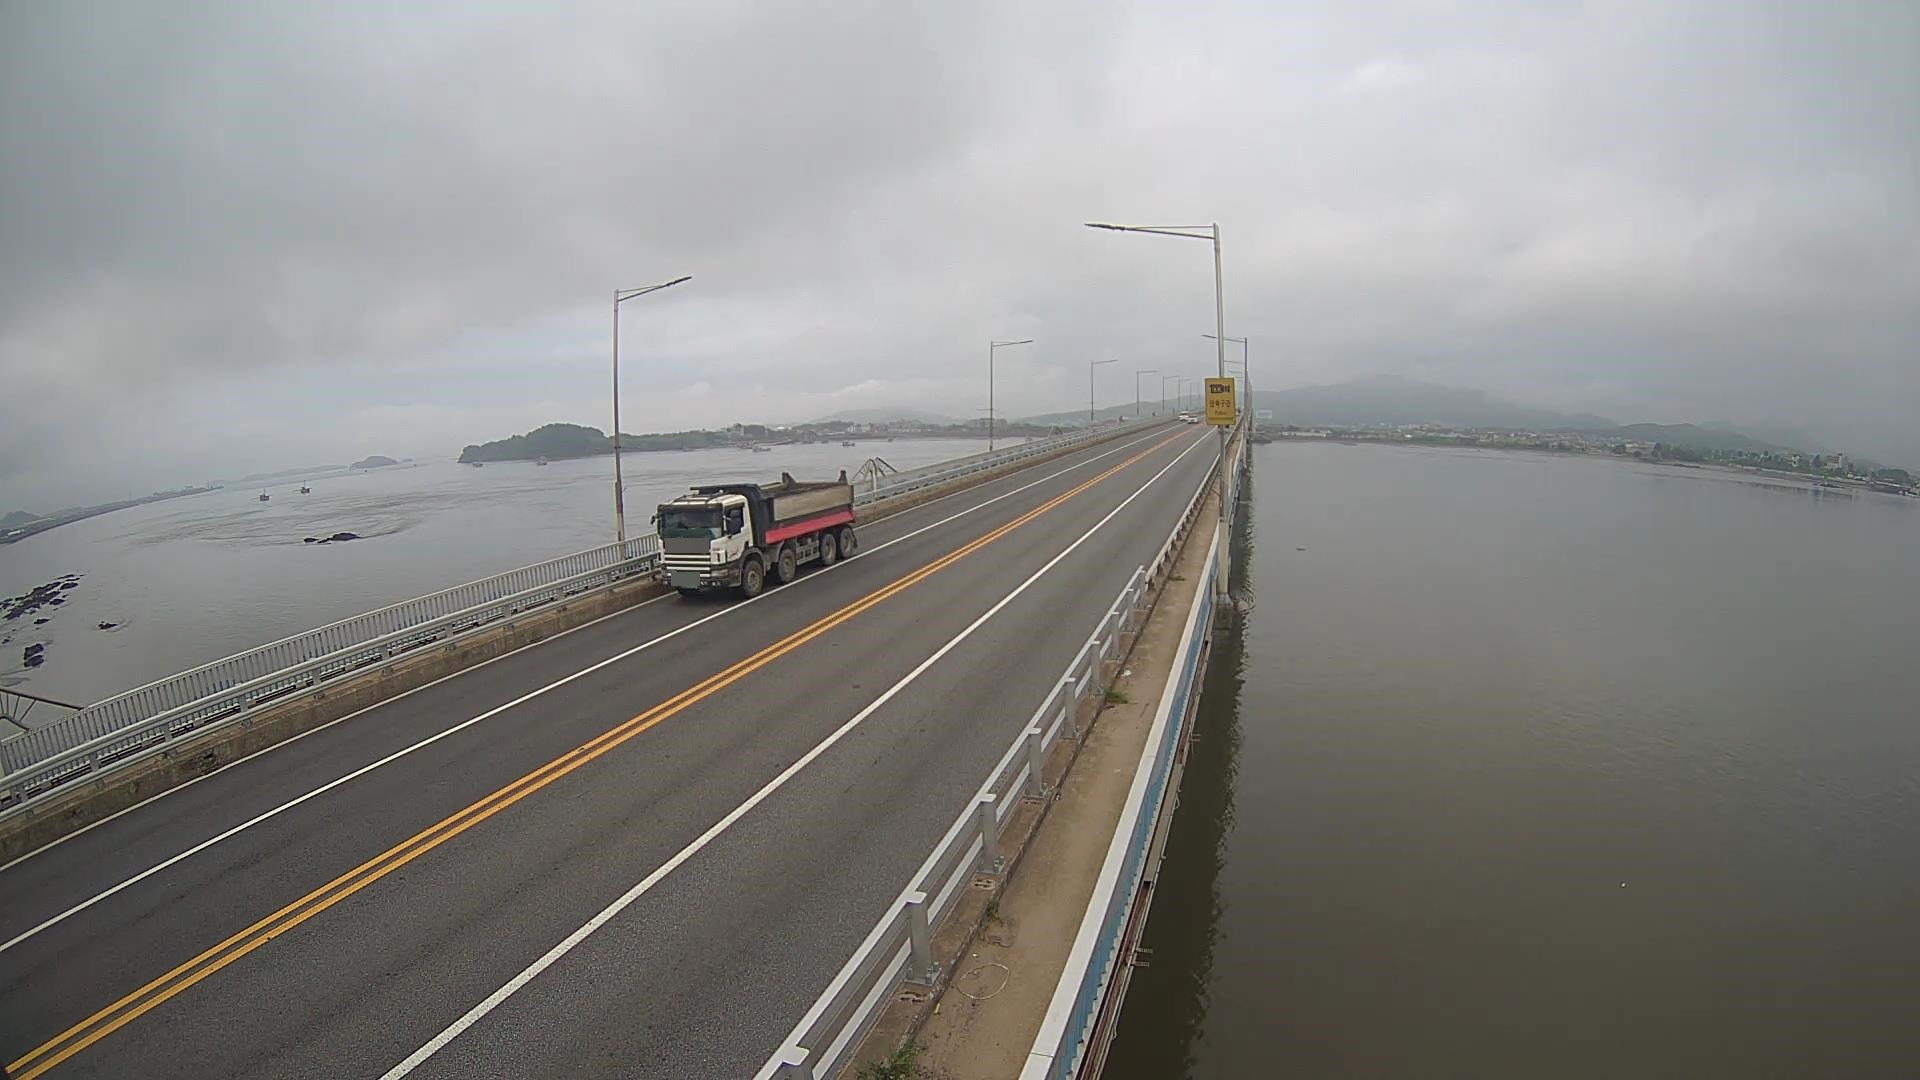정상차량: (650, 470, 858, 599)
